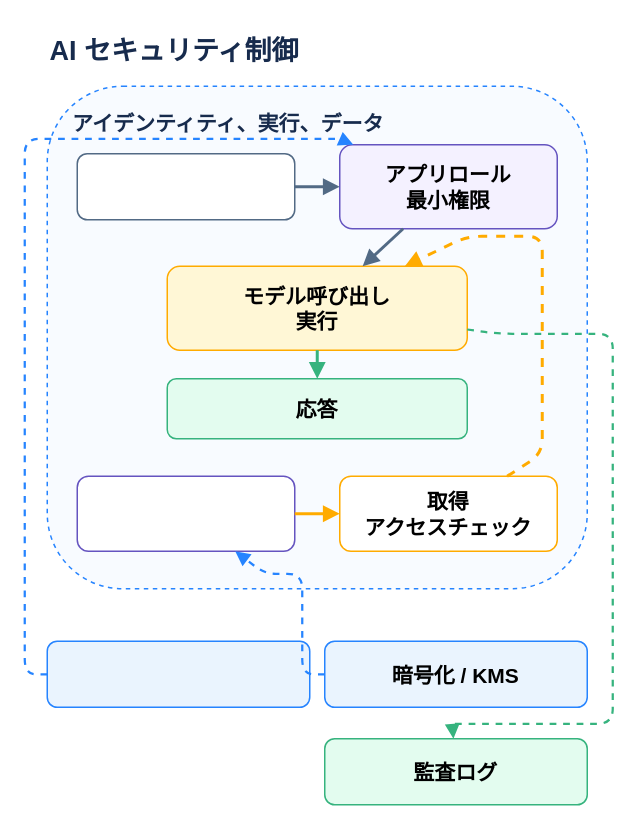
This 638x830 diagram has some shape labels left out. The box of each missing label's shape, as (x1, y1, x2, y2) in pixels:
IAM / ロールスコープ: (46, 640, 310, 707)
ドキュメントストア アクセスと保持: (76, 475, 295, 551)
ユーザー/ID: (76, 152, 295, 220)
